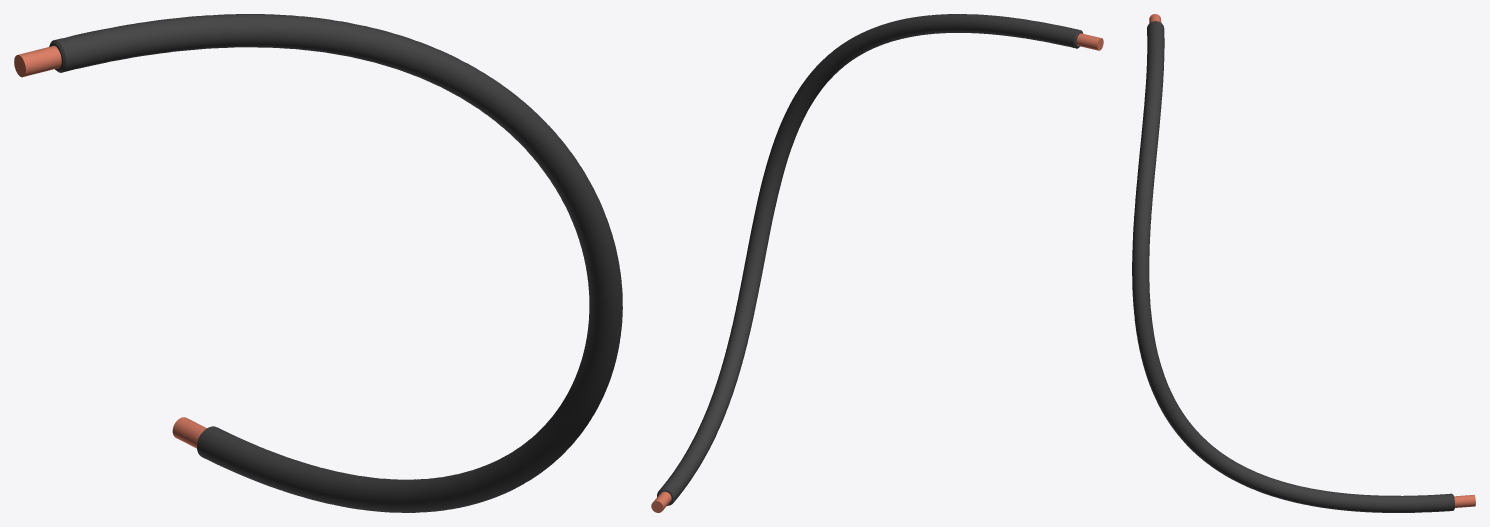
Rendered from BATTERY CRATE STACK V2__BATTERY CRATE L4__MODULE CONNECTION CABLE ASM E__MODULE CONNECTION CABLE E.glb.
3 renders of one model, left to right at view 1: azimuth 30°, elevation 25°; view 2: azimuth 150°, elevation 25°; view 3: azimuth 270°, elevation 25°, orthographic. The views are drawn at different scales.
Parts seen in each view (by area): view 1: MODULE CONNECTION CABLE E; view 2: MODULE CONNECTION CABLE E; view 3: MODULE CONNECTION CABLE E.
Part boxes in pixels (x1=…): MODULE CONNECTION CABLE E: x1=14, y1=14, x2=622, y2=512; MODULE CONNECTION CABLE E: x1=651, y1=14, x2=1103, y2=512; MODULE CONNECTION CABLE E: x1=1132, y1=14, x2=1475, y2=512.
Size of the model in its own units: 0.4244 by 0.4951 by 0.4077.
